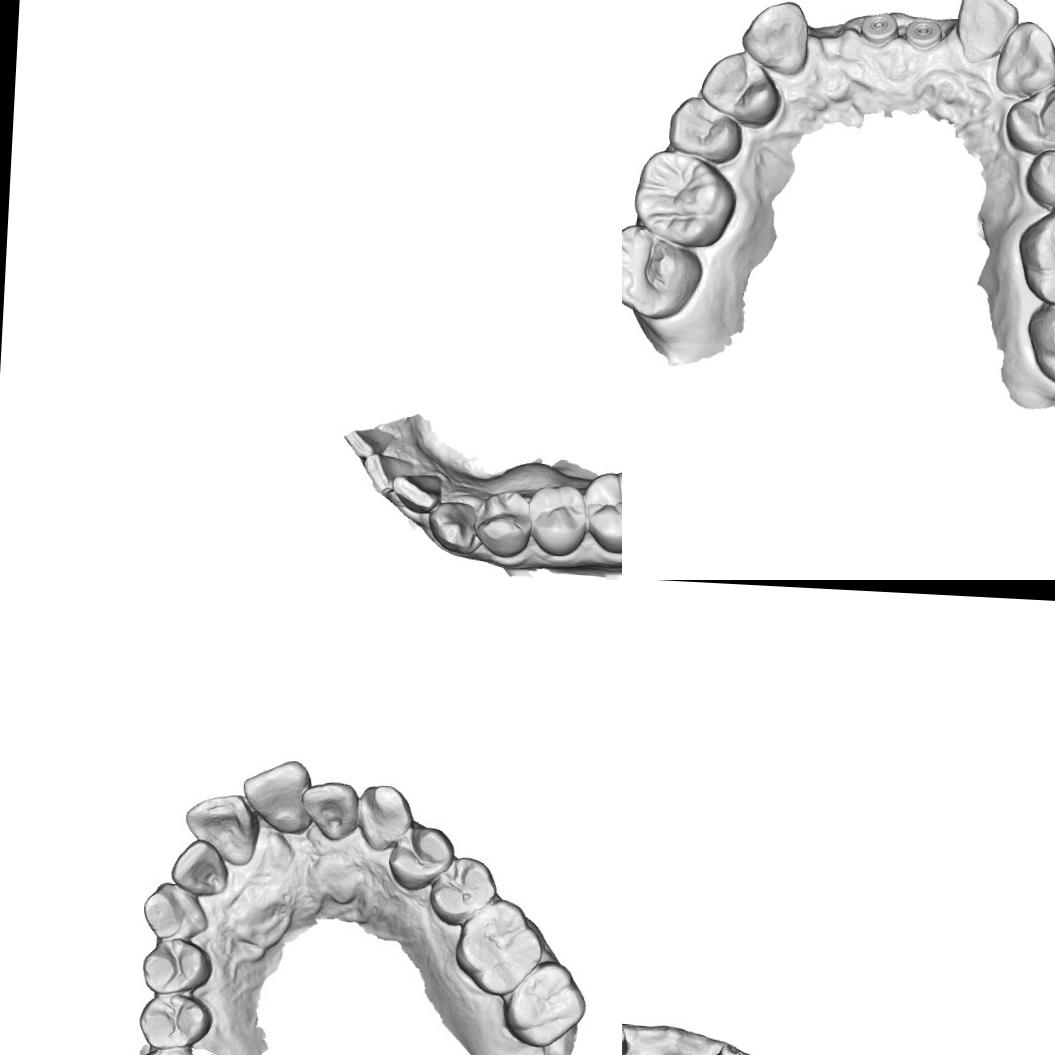abutment: (706, 1036, 743, 1055), (622, 1020, 633, 1055)
canine: (739, 0, 812, 72), (136, 879, 212, 944), (993, 18, 1055, 95), (355, 784, 410, 854), (424, 498, 480, 556)
implant: (906, 14, 944, 52), (862, 10, 896, 48)
incisor: (180, 788, 260, 868), (238, 756, 314, 838), (952, 0, 1022, 61), (168, 837, 232, 897), (301, 778, 361, 842), (362, 449, 416, 498), (392, 471, 446, 517), (344, 420, 398, 459)
molar: (630, 148, 738, 247), (452, 898, 547, 999), (498, 957, 588, 1050), (622, 222, 703, 320), (1014, 204, 1055, 306), (580, 464, 622, 556), (1025, 286, 1055, 391)
premolar: (697, 49, 782, 129), (666, 92, 745, 163), (426, 850, 498, 926), (134, 990, 215, 1054), (524, 480, 587, 560), (382, 822, 453, 892), (470, 486, 531, 560), (138, 937, 210, 996), (1003, 81, 1055, 154), (1022, 143, 1055, 209)
